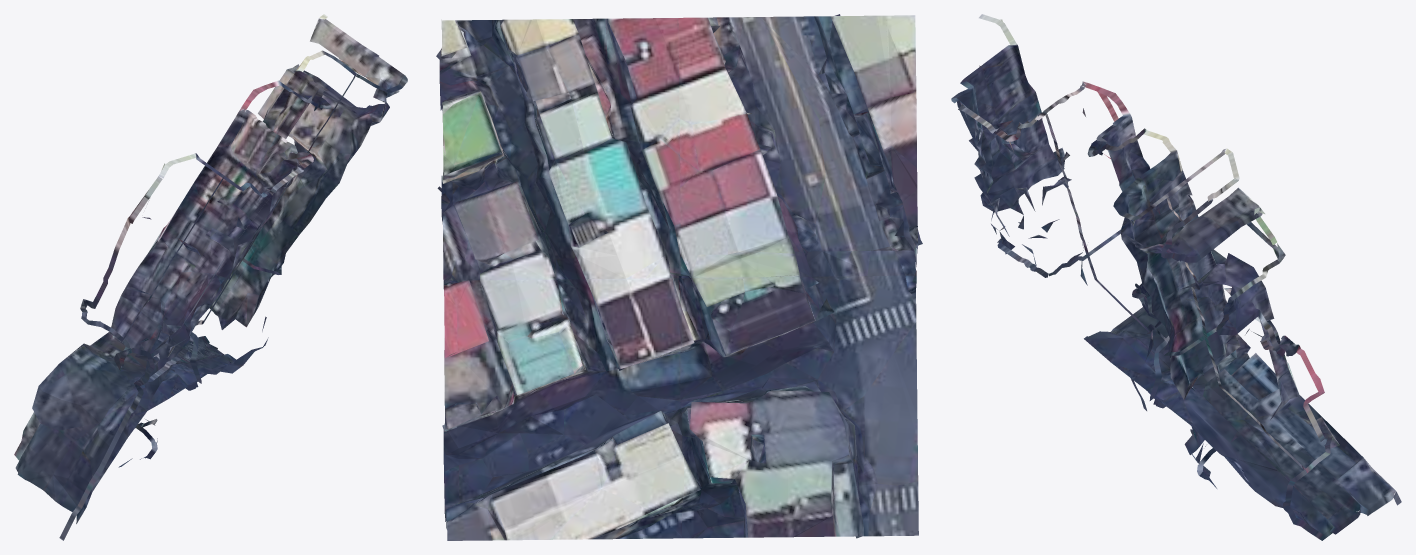
The picture shows the model from 3 angles, left to right: view 1: azimuth 30°, elevation 25°; view 2: azimuth 150°, elevation 25°; view 3: azimuth 270°, elevation 25°; orthographic projection. The views are drawn at different scales.
Size of the model in its own units: 75.17 by 77.19 by 71.89.
2 materials, 2 textured.
